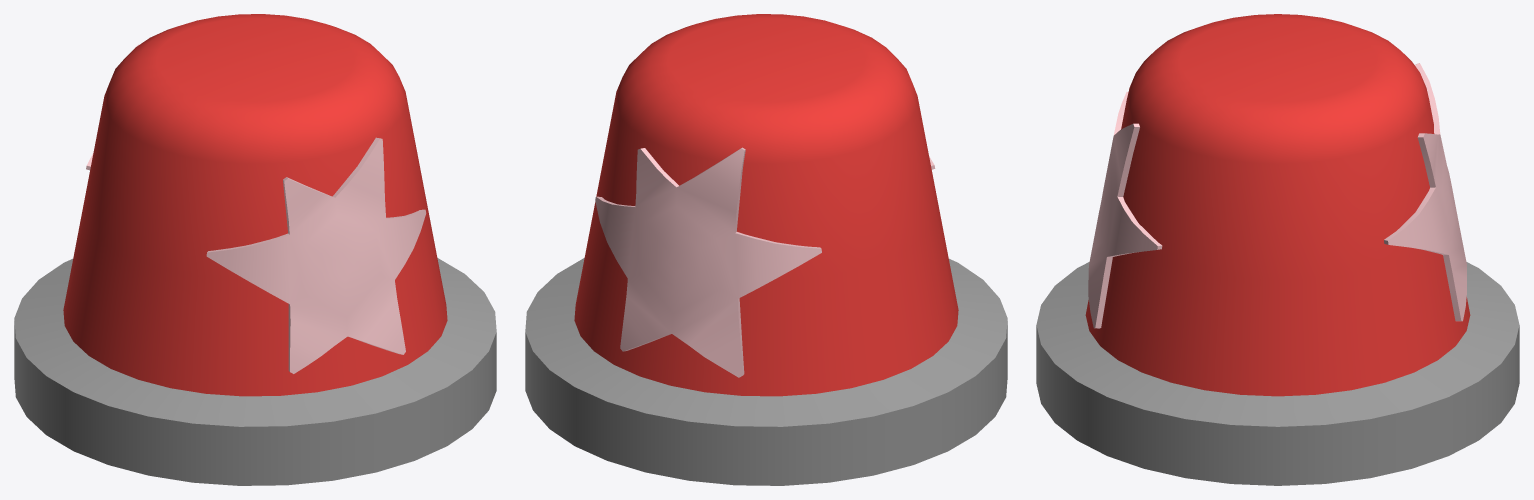
Rendered from police_car_light.gltf.
3 views of the same model, side by side, from view 1: azimuth 30°, elevation 25°; view 2: azimuth 150°, elevation 25°; view 3: azimuth 270°, elevation 25° (orthographic).
Visible parts, largest first — view 1: Circle.2396; view 2: Circle.2396; view 3: Circle.2396.
Part boxes in pixels (bbox=[...]): Circle.2396: bbox=[14, 14, 496, 485]; Circle.2396: bbox=[525, 14, 1007, 485]; Circle.2396: bbox=[1036, 14, 1519, 485].
Size of the model in its own units: 2.34 by 1.75 by 2.34.
1 material, 1 textured.
